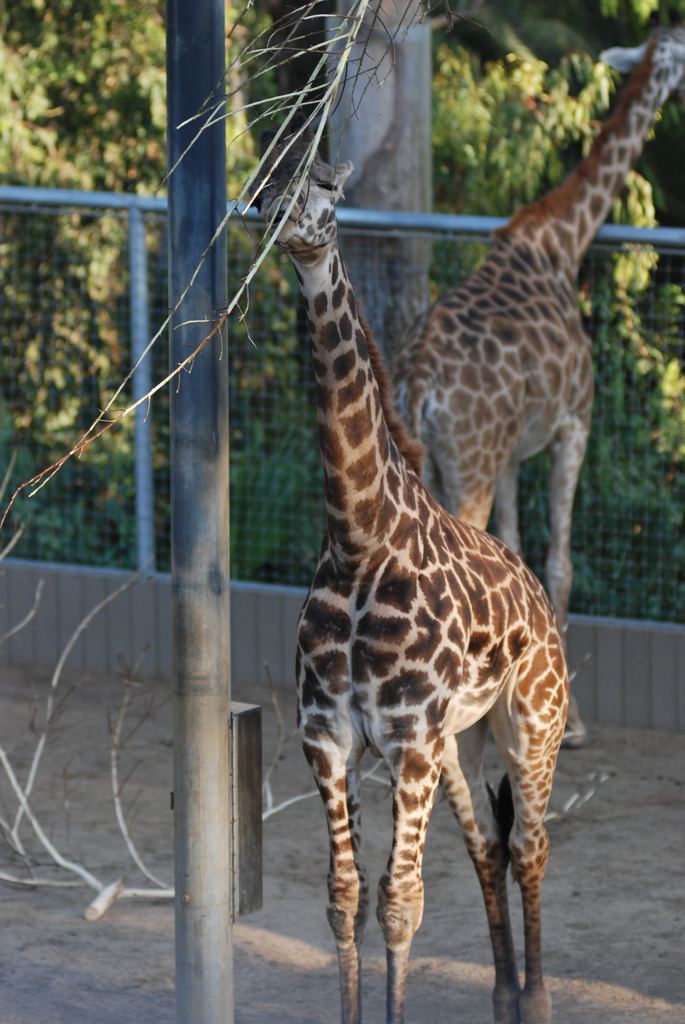giraffe: (213, 132, 565, 994), (424, 33, 678, 641)
